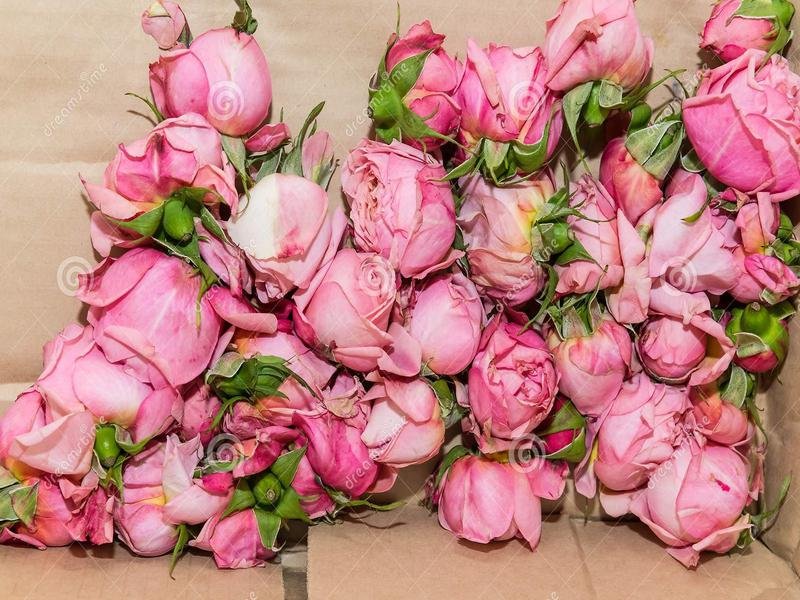flowers: (1, 1, 800, 570)
